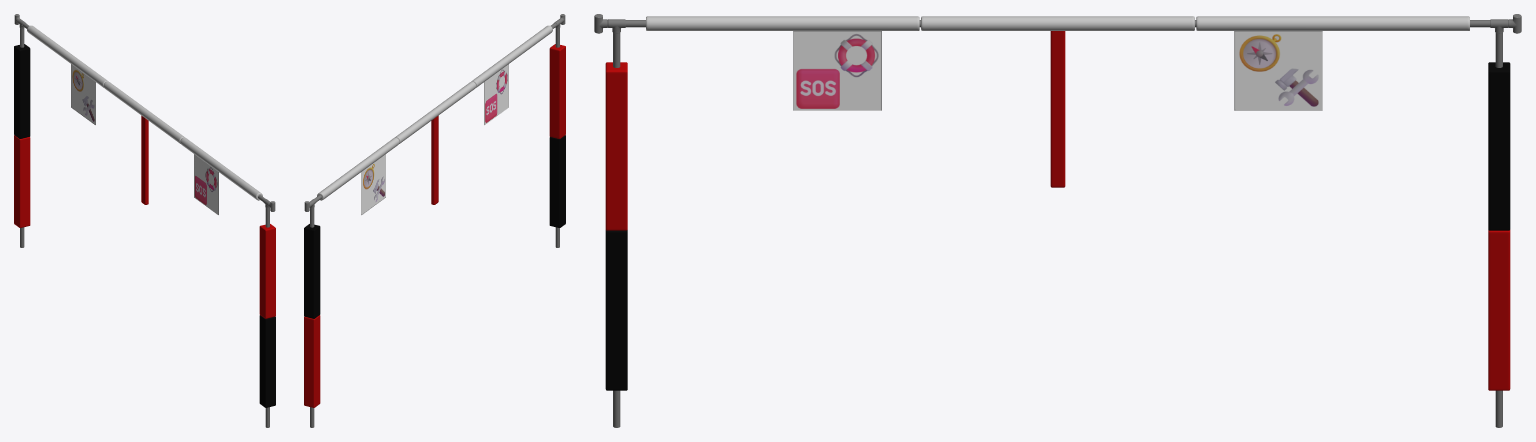
Rendered from gate.dae.
3 renders of one model, left to right at view 1: azimuth 30°, elevation 25°; view 2: azimuth 150°, elevation 25°; view 3: azimuth 270°, elevation 25°, orthographic. The views are drawn at different scales.
Visible parts, largest first — view 1: gate_frame, gate_right, gate_left, gate_arrow_blue_ccw, gate_arrow_red_cw, gate_middle; view 2: gate_frame, gate_right, gate_left, gate_arrow_red_cw, gate_arrow_blue_ccw, gate_middle; view 3: gate_frame, gate_right, gate_left, gate_arrow_blue_ccw, gate_arrow_red_cw, gate_middle.
Part boxes in pixels (<box>): gate_frame: <box>14,14,275,427</box>; gate_right: <box>259,224,275,407</box>; gate_left: <box>14,44,30,227</box>; gate_arrow_blue_ccw: <box>71,64,95,124</box>; gate_arrow_red_cw: <box>194,154,218,214</box>; gate_middle: <box>141,115,148,204</box>; gate_frame: <box>304,14,565,427</box>; gate_right: <box>549,44,565,227</box>; gate_left: <box>304,224,320,407</box>; gate_arrow_red_cw: <box>484,64,508,124</box>; gate_arrow_blue_ccw: <box>361,154,385,214</box>; gate_middle: <box>431,115,438,204</box>; gate_frame: <box>594,14,1521,427</box>; gate_right: <box>605,62,627,390</box>; gate_left: <box>1488,62,1510,390</box>; gate_arrow_blue_ccw: <box>1234,31,1322,110</box>; gate_arrow_red_cw: <box>793,31,881,110</box>; gate_middle: <box>1050,31,1065,187</box>.
Size of the model in its own units: 0.0762 by 3.2 by 1.57.
6 materials, 2 textured.
